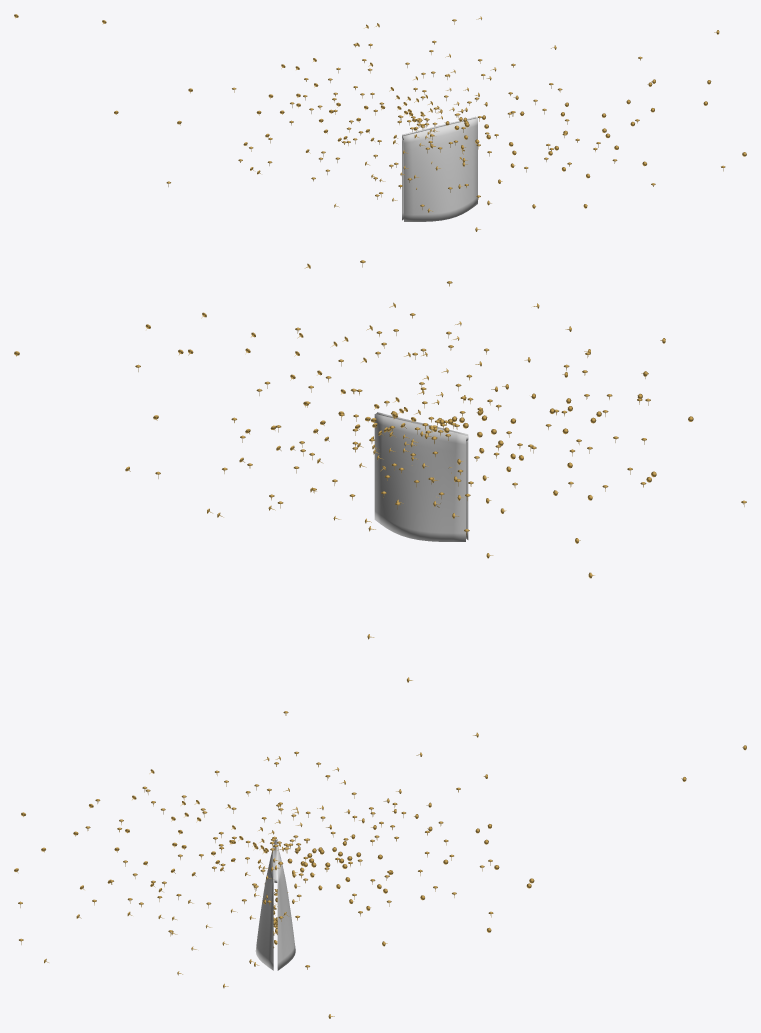
The model's file is thumbtacks.glb.
The picture shows the model from 3 angles, top to bottom: view 1: azimuth 30°, elevation 25°; view 2: azimuth 150°, elevation 25°; view 3: azimuth 270°, elevation 25°; orthographic projection. The views are drawn at different scales.
Parts seen in each view (by area): view 1: Thumbtacks_Bag_bag, Thumbtacks_Scattered_tacks; view 2: Thumbtacks_Bag_bag, Thumbtacks_Scattered_tacks; view 3: Thumbtacks_Scattered_tacks, Thumbtacks_Bag_bag.
Boxes of the visible parts, bbox=[...] form: Thumbtacks_Bag_bag: bbox=[402, 116, 477, 221]; Thumbtacks_Scattered_tacks: bbox=[14, 14, 746, 231]; Thumbtacks_Bag_bag: bbox=[374, 412, 468, 541]; Thumbtacks_Scattered_tacks: bbox=[14, 260, 746, 682]; Thumbtacks_Scattered_tacks: bbox=[14, 711, 746, 1018]; Thumbtacks_Bag_bag: bbox=[255, 839, 295, 970].
Size of the model in its own units: 1.4 by 0.2145 by 1.43.
Materials: 2 (1 with a texture image).
